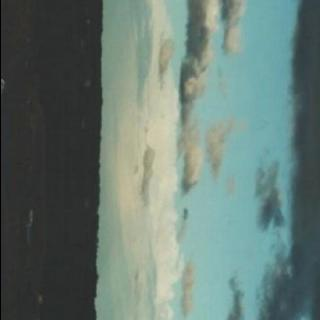Stratocumulus: (73, 0, 320, 320)
